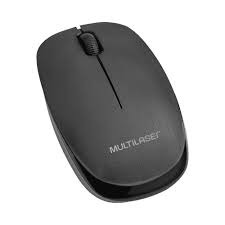mouse: (31, 19, 190, 202)
